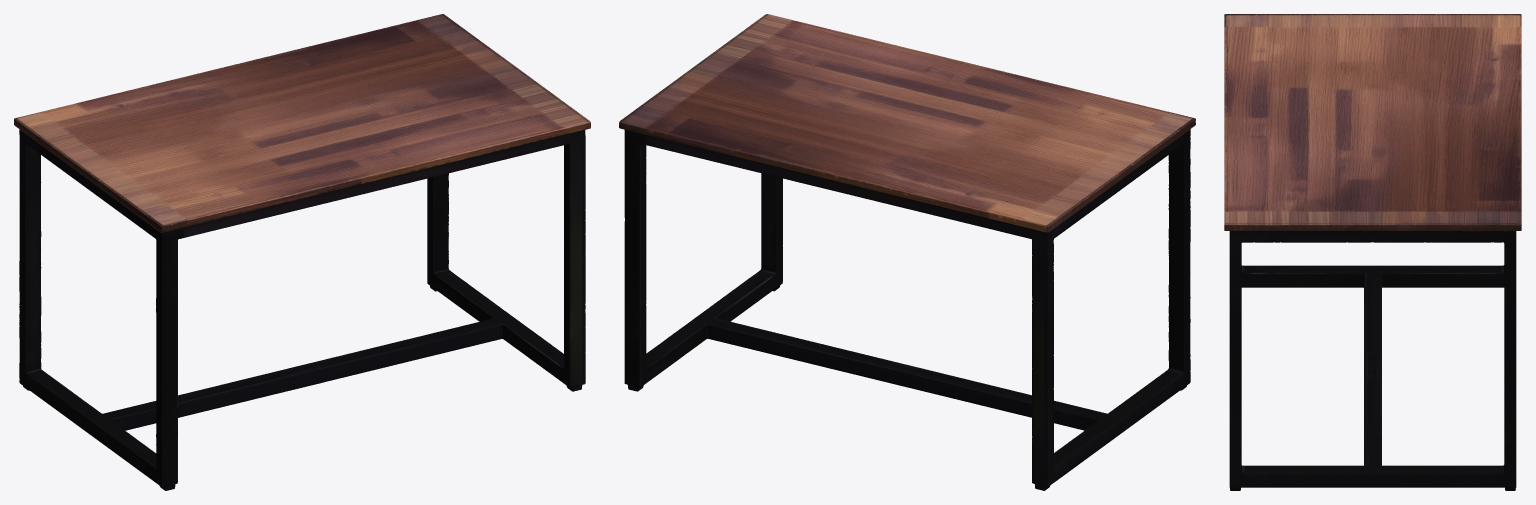
Rendered from Meshy_AI_Walnut_Parquet_Table_0519062747_image-to-3d-texture.fbx.
The picture shows the model from 3 angles, left to right: view 1: azimuth 30°, elevation 25°; view 2: azimuth 150°, elevation 25°; view 3: azimuth 270°, elevation 25°; orthographic projection.
Parts seen in each view (by area): view 1: Mesh_0; view 2: Mesh_0; view 3: Mesh_0.
Part boxes in pixels (x1,y1,x2,y2): Mesh_0: [14, 14, 590, 490]; Mesh_0: [619, 14, 1195, 490]; Mesh_0: [1224, 14, 1521, 490].
Size of the model in its own units: 190 by 113 by 113.
Materials: 1 (1 with a texture image).
